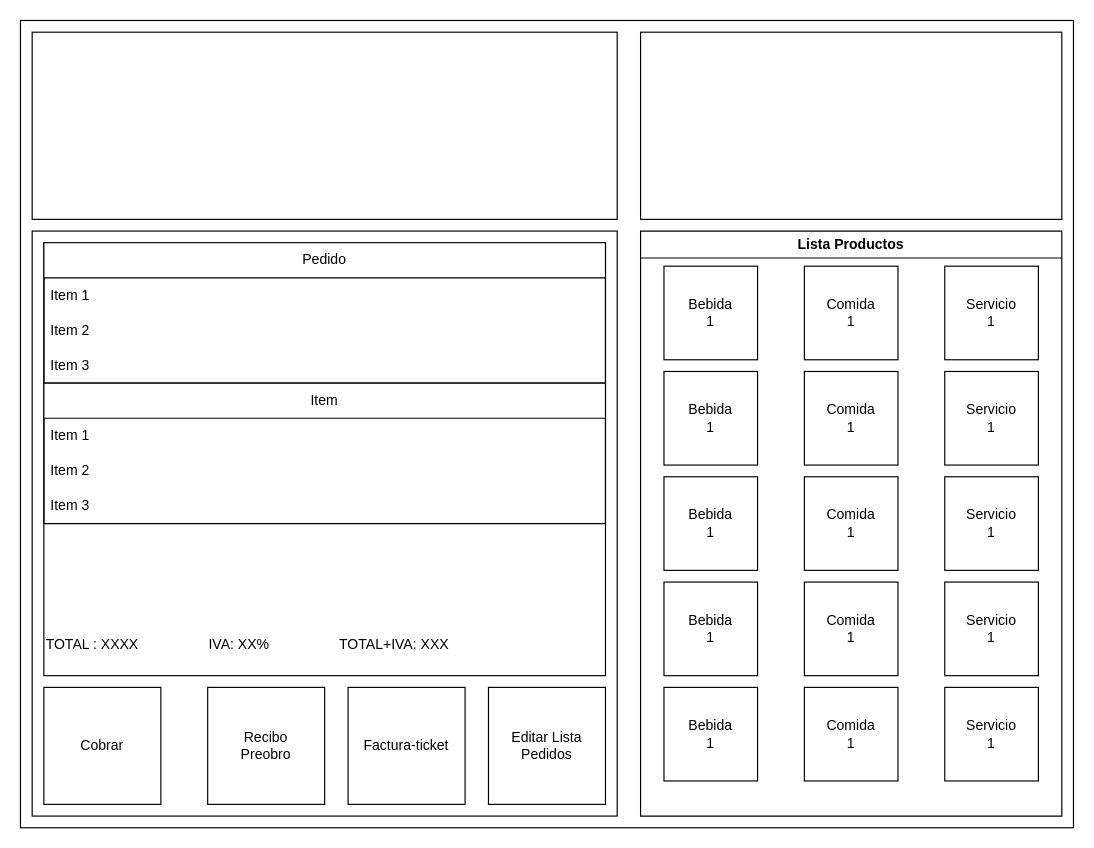
This 1094x848 diagram has some shape labels left out. Here are the shapes that lost their labels. From the top down, the centre of each, then its label:
At point (324, 125): "LOGO EMPRESA".
At point (850, 125): "MESA XXX Atendido por: XXXXXXX HORA: XX:XX".
